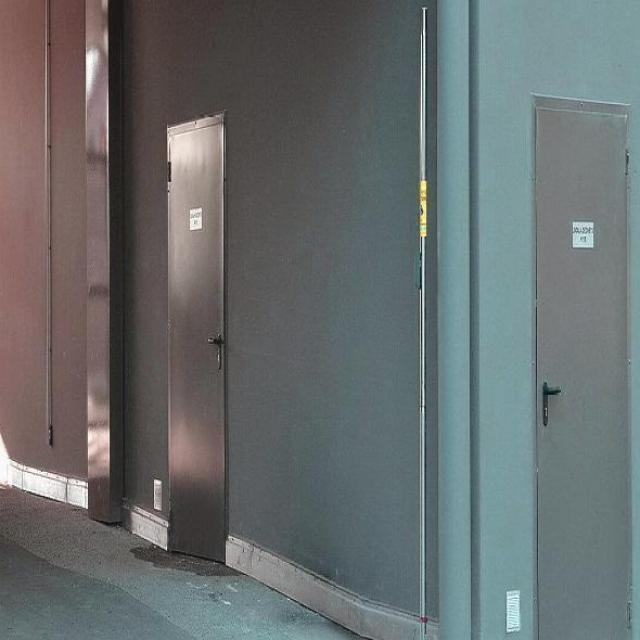door: (531, 91, 632, 640), (162, 119, 233, 565)
